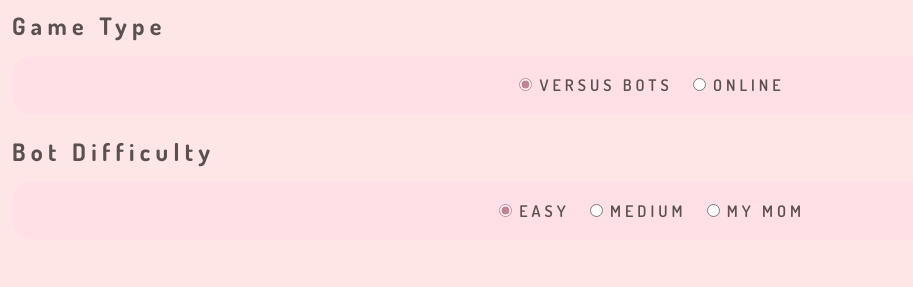
Test: CreateGameSelections › shows tooltip on My Mom when showHardTooltip is true
The width and height of the screenshot is (913, 287).
Hover over the radio button labelled "My Mom": [713, 210] box [707,204,720,217]
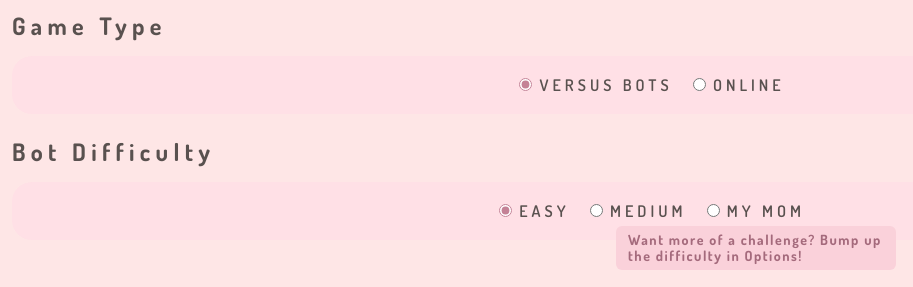
Now the tooltip "Want more of a challenge? Bump up the difficulty in Options!" is shown, box [616,226,896,270]
